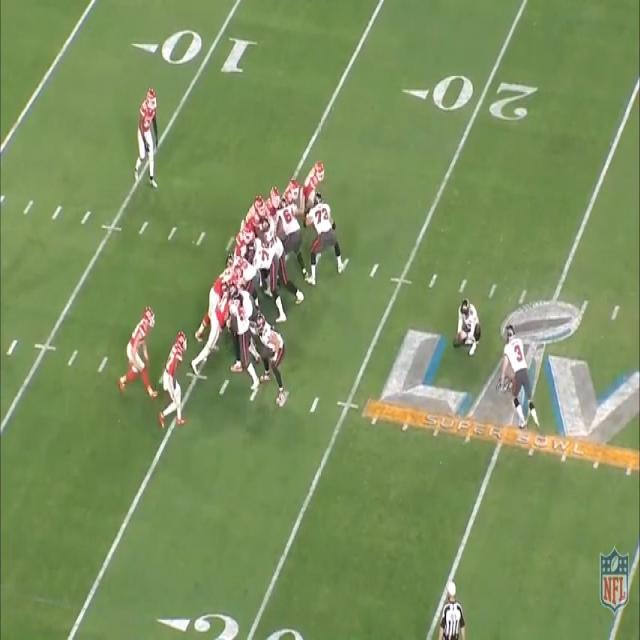players: (502, 323, 545, 429), (193, 290, 235, 388), (264, 216, 309, 307), (120, 300, 165, 390), (160, 320, 191, 444), (128, 72, 160, 190), (224, 281, 257, 392), (309, 193, 345, 290), (198, 266, 242, 325), (248, 238, 277, 322), (452, 287, 484, 363), (262, 321, 290, 402), (234, 189, 266, 248), (303, 153, 334, 210), (282, 196, 302, 274)
